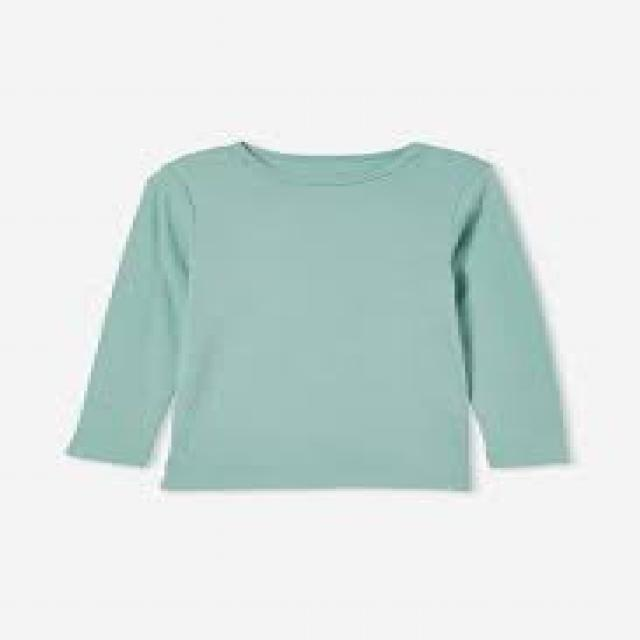plain: (66, 134, 586, 498)
